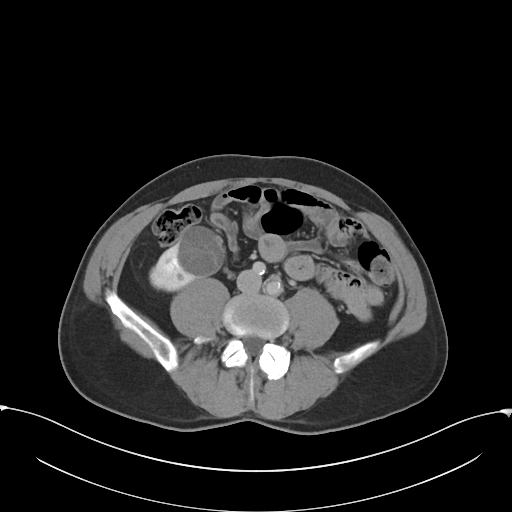Lesion: (174, 225, 226, 276)
